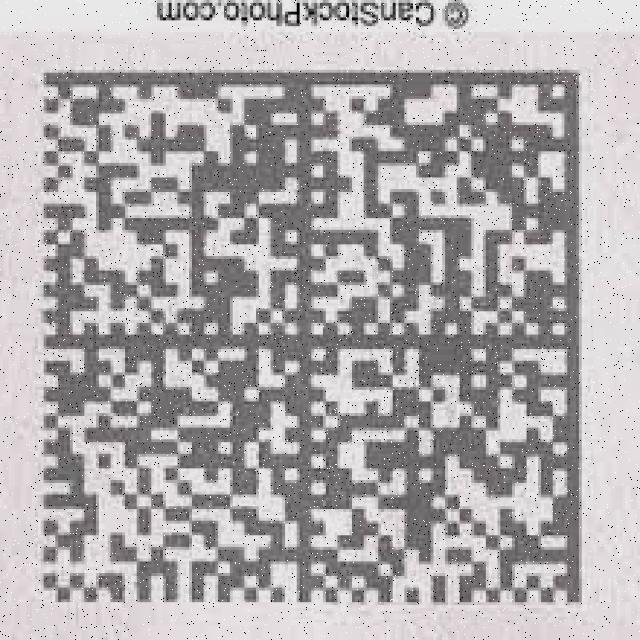datamatrix: (32, 61, 591, 614)
